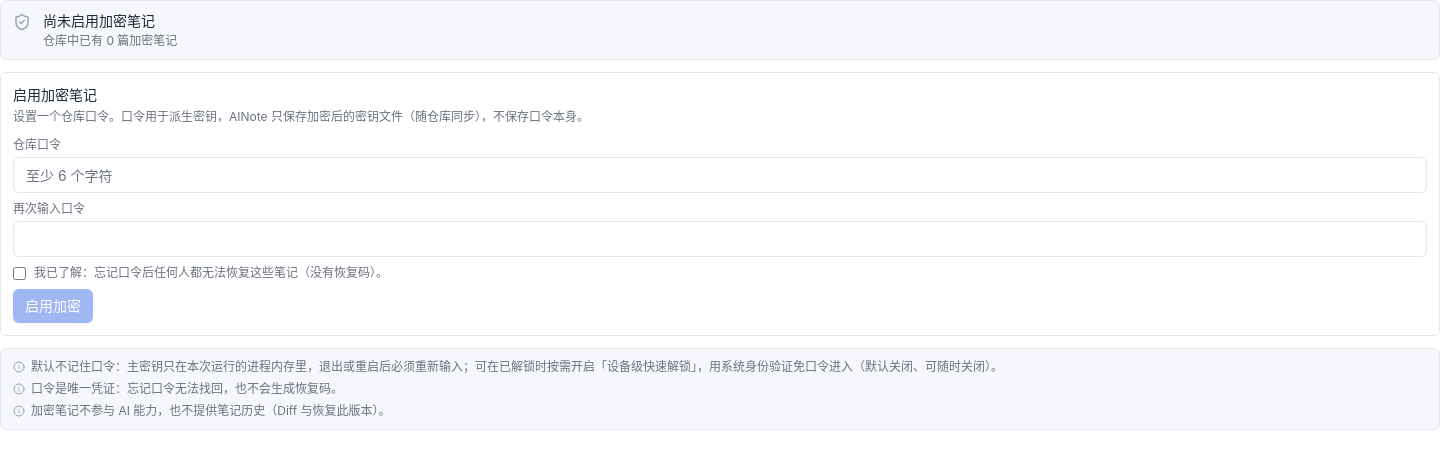
it: VaultSettings › 口令与仓库名相同时拒绝提交
Expected: the text "启用加密笔记" is shown, left=13, top=86, right=97, bottom=103
Type "verylongreponame" into the password field labelled "仓库口令". click: (720, 175)
box: left=13, top=157, right=1427, bottom=193
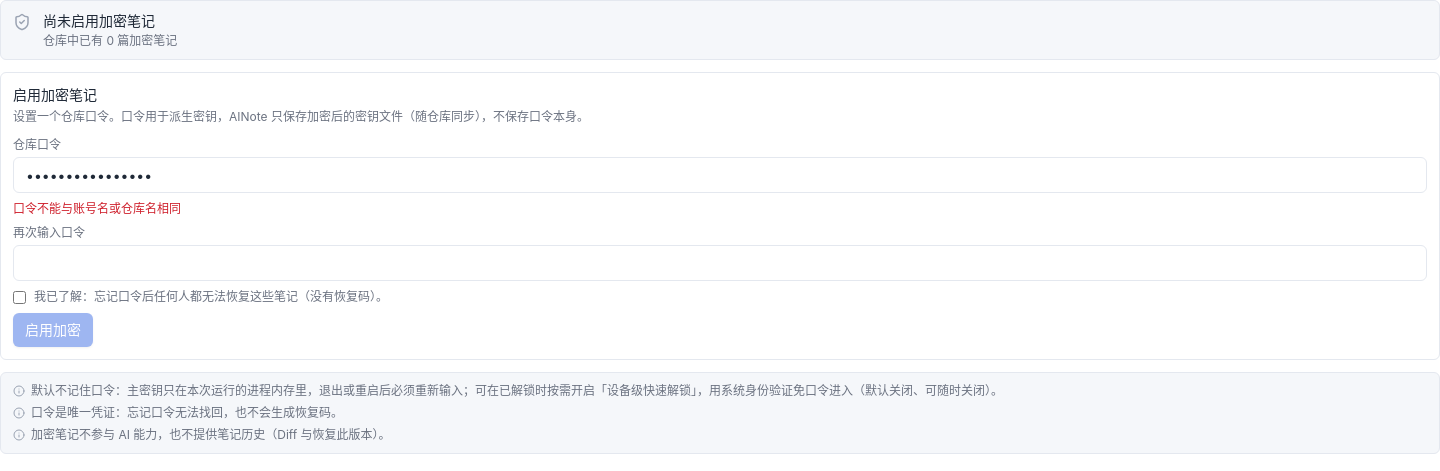
Result: the text "口令不能与账号名或仓库名相同" is shown at left=13, top=201, right=181, bottom=216
